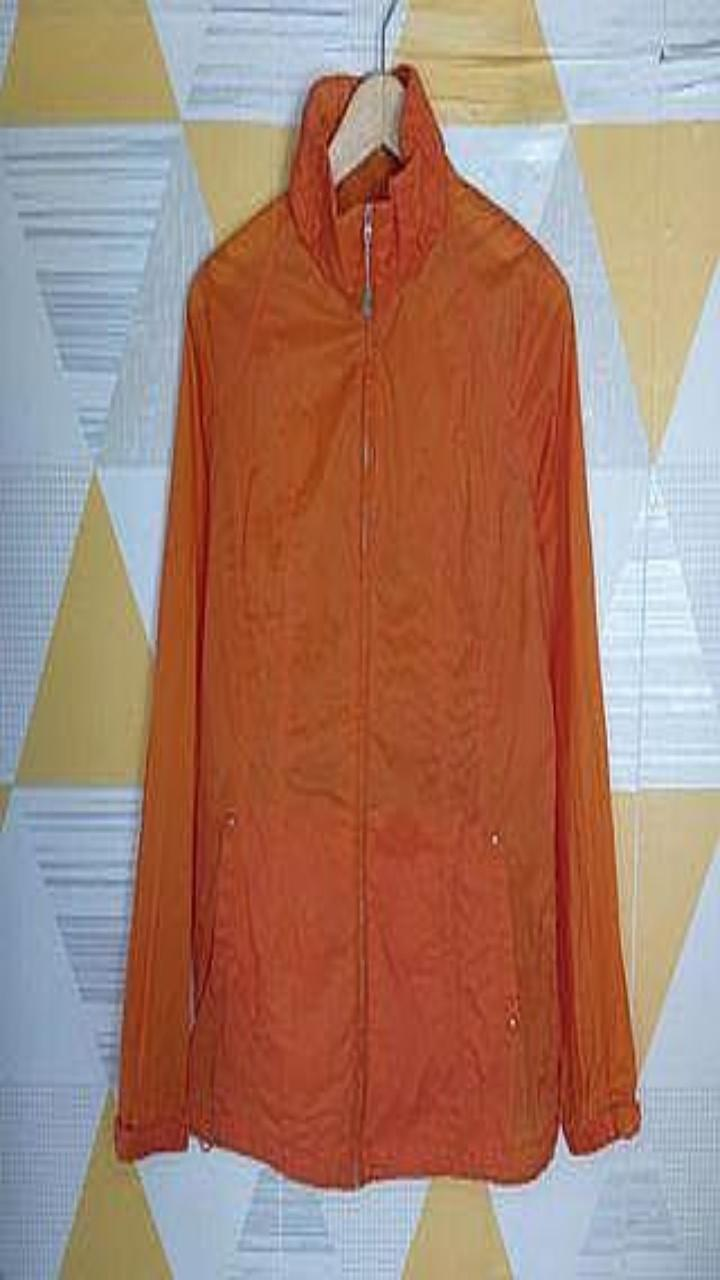Sports_Jacket: (114, 62, 639, 1187)
